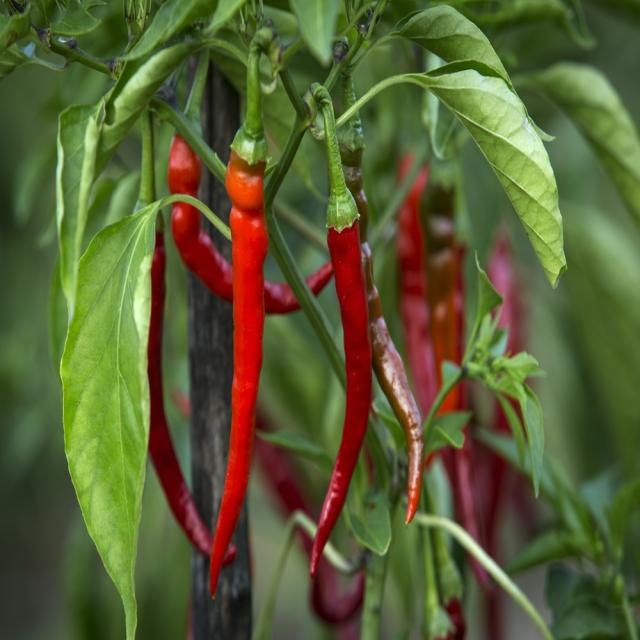Half-Ripe: (340, 139, 422, 521)
Ripe: (167, 135, 333, 316), (210, 150, 269, 595), (310, 219, 371, 576), (147, 232, 212, 557)
